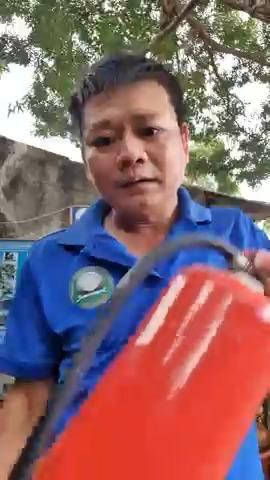FireExtinguisher: (25, 239, 270, 480)
